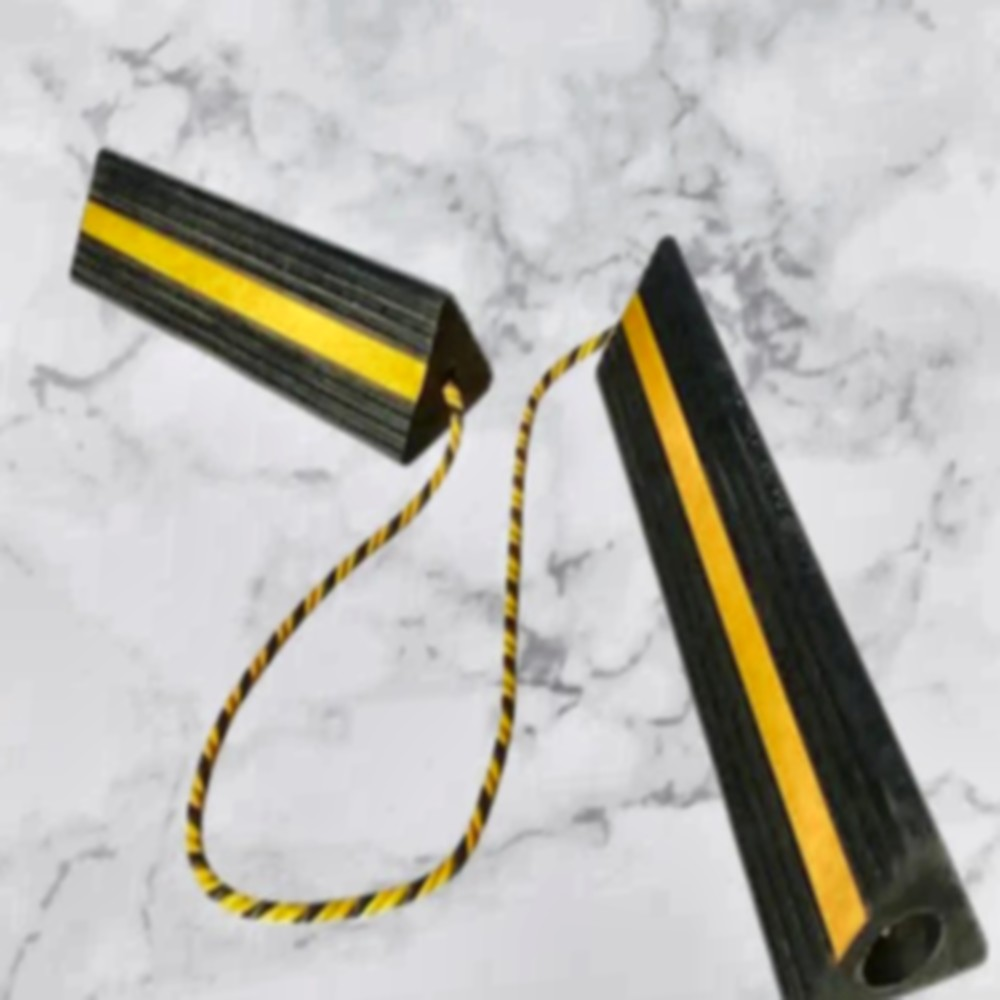chock: (563, 194, 1000, 1000), (48, 107, 508, 499)
